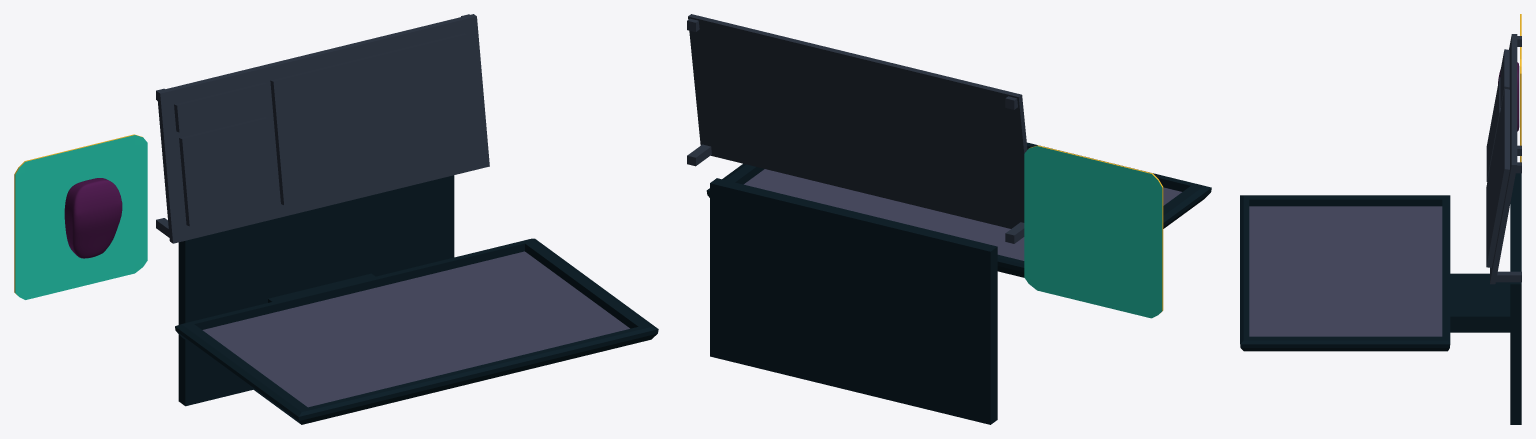
The model's file is Desktop.fbx.
The picture shows the model from 3 angles, left to right: view 1: azimuth 30°, elevation 25°; view 2: azimuth 150°, elevation 25°; view 3: azimuth 270°, elevation 25°; orthographic projection. The views are drawn at different scales.
Parts seen in each view (by area): view 1: Desktop, Keyboard, MousePad, Mouse; view 2: Desktop, Keyboard, MousePad; view 3: Desktop, Keyboard.
Boxes of the visible parts, x1=… form: Desktop: x1=175, y1=175, x2=658, y2=424; Keyboard: x1=156, y1=14, x2=489, y2=243; MousePad: x1=14, y1=134, x2=147, y2=299; Mouse: x1=64, y1=178, x2=122, y2=258; Desktop: x1=706, y1=142, x2=1211, y2=424; Keyboard: x1=687, y1=14, x2=1027, y2=243; MousePad: x1=1024, y1=145, x2=1163, y2=318; Desktop: x1=1240, y1=173, x2=1521, y2=424; Keyboard: x1=1486, y1=34, x2=1521, y2=284.
Size of the model in its own units: 43690 by 27741 by 26252.
Materials: 1 (1 with a texture image).
